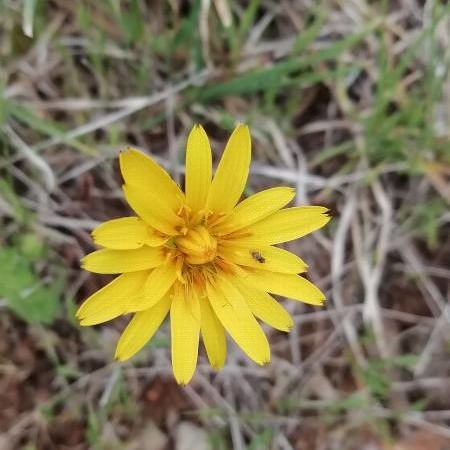obstacle: (70, 116, 352, 377)
